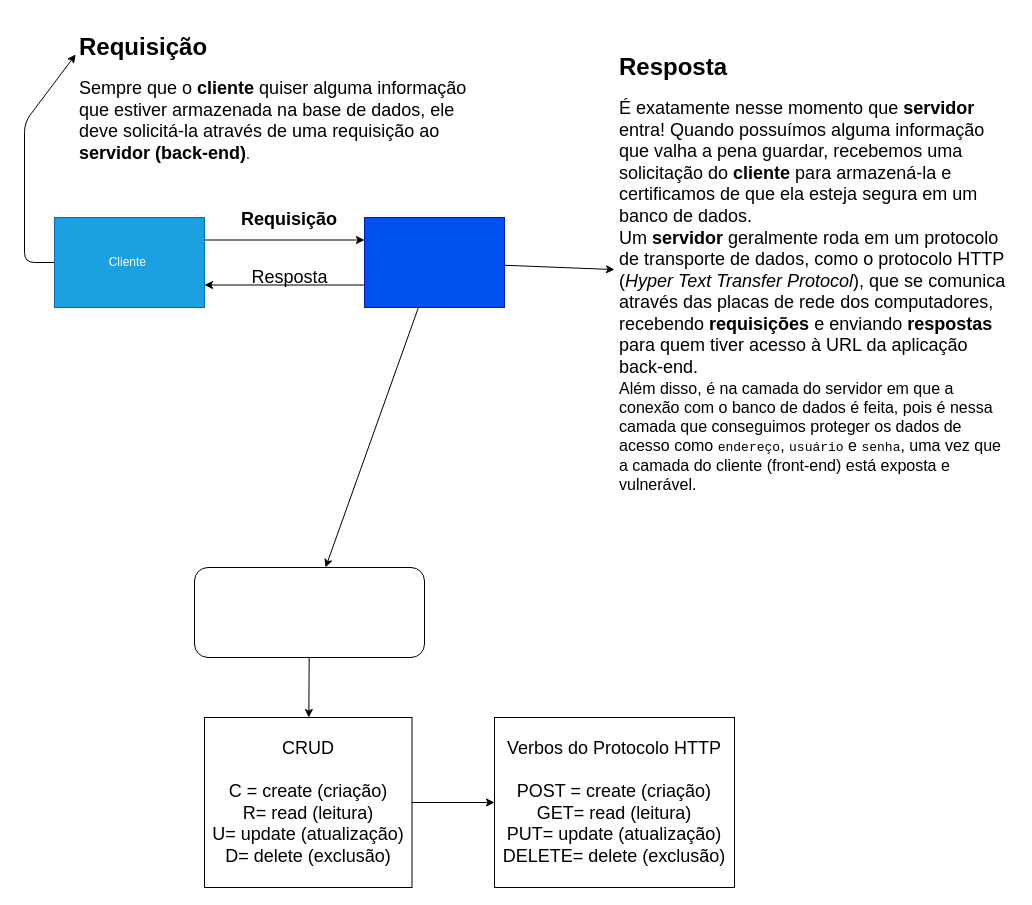
The diagram is 1032 pixels wide and 905 high, and some of its shapes have lost their labels. The centre of each missing label's shape, as x and y in pixels:
Banco de Dados: point 309,612
Servidor: point 434,262
